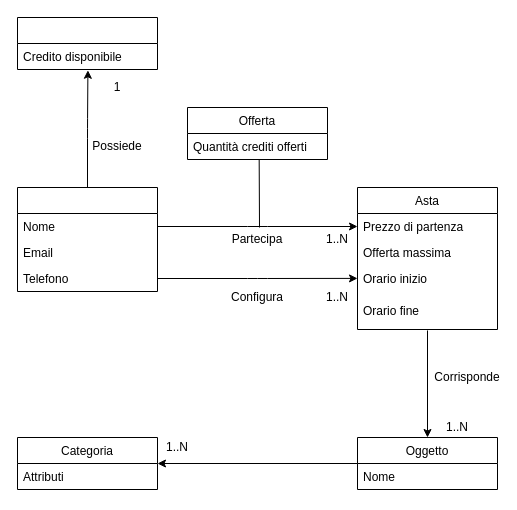
Some shapes in this 517 by 510 pixel diagram are drawn without their labels. Each missing label, with the box of its shape:
Portafoglio: (16, 16, 158, 70)
Utente: (16, 186, 158, 292)
